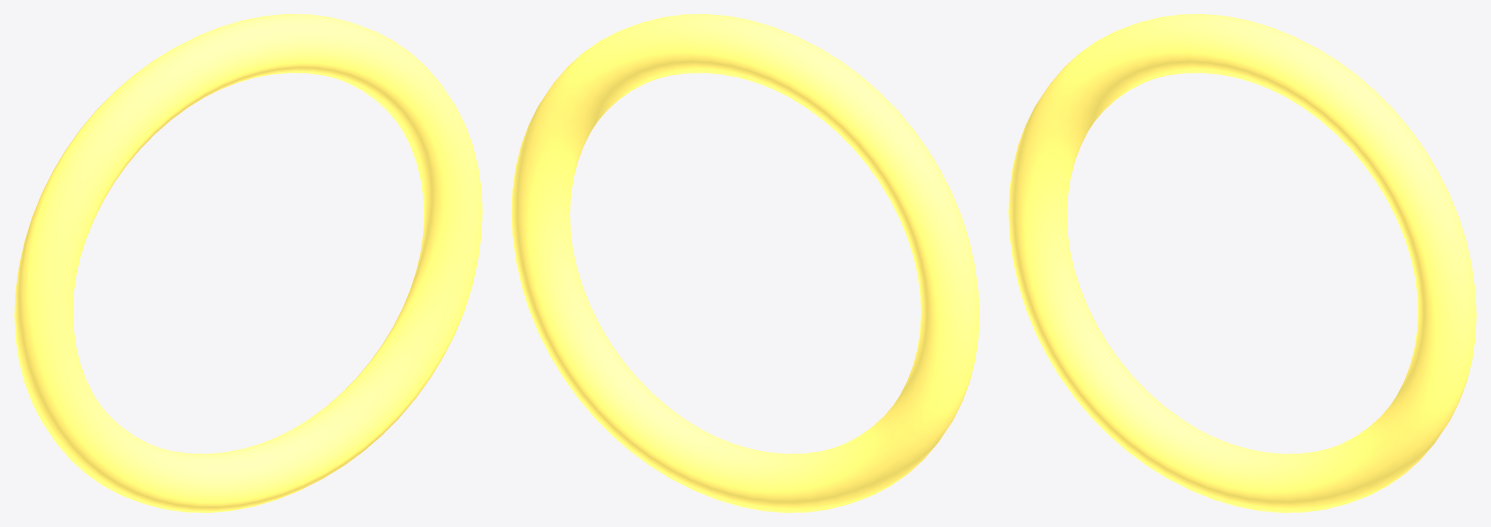
File: collectible_ring.dae
The picture shows the model from 3 angles, left to right: view 1: azimuth 30°, elevation 25°; view 2: azimuth 150°, elevation 25°; view 3: azimuth 330°, elevation 25°; orthographic projection.
Visible parts, largest first — view 1: Collectible_Ring; view 2: Collectible_Ring; view 3: Collectible_Ring.
Boxes of the visible parts, x1=… form: Collectible_Ring: x1=14, y1=14, x2=482, y2=512; Collectible_Ring: x1=511, y1=14, x2=979, y2=512; Collectible_Ring: x1=1008, y1=14, x2=1476, y2=512.
Size of the model in its own units: 10.52 by 1.17 by 10.52.
